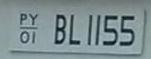5: (119, 15, 136, 47), (103, 14, 119, 47)
B: (54, 14, 68, 45)
I: (95, 14, 101, 47), (87, 14, 93, 46), (31, 31, 37, 44)
L: (69, 14, 81, 46)
O: (19, 30, 30, 44)
P: (19, 13, 28, 26)
Y: (28, 13, 39, 26)
